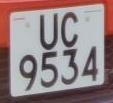3: (61, 46, 81, 91)
4: (80, 41, 101, 89)
5: (37, 49, 62, 90)
9: (16, 51, 40, 94)
C: (58, 9, 84, 50)
U: (37, 11, 61, 51)
